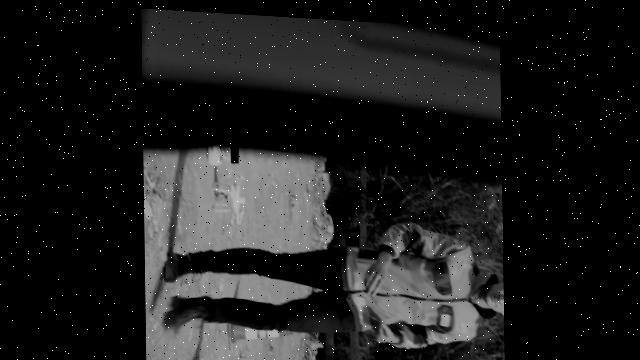drone: (211, 170, 245, 225)
